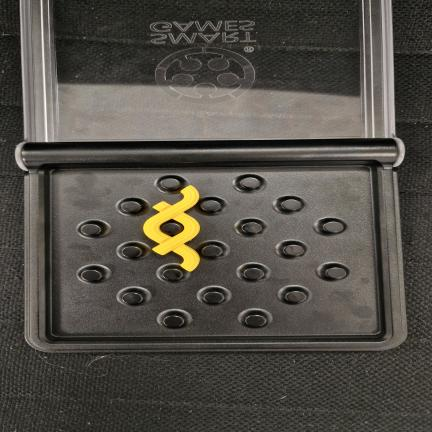A_Yellow: (143, 186, 200, 271)
board: (23, 138, 406, 352)
hinge: (16, 139, 405, 171)
pin: (120, 200, 142, 213), (161, 222, 183, 235), (80, 223, 101, 236), (203, 291, 224, 304), (122, 291, 143, 304), (163, 315, 184, 328), (245, 314, 266, 327), (239, 177, 261, 189), (280, 199, 302, 211), (201, 245, 223, 257), (80, 269, 102, 281), (285, 291, 307, 303), (284, 244, 304, 257), (162, 268, 182, 281), (160, 178, 181, 190), (200, 200, 221, 212), (323, 221, 344, 233), (121, 246, 142, 258), (243, 268, 264, 280), (325, 267, 346, 279), (241, 222, 262, 233)
